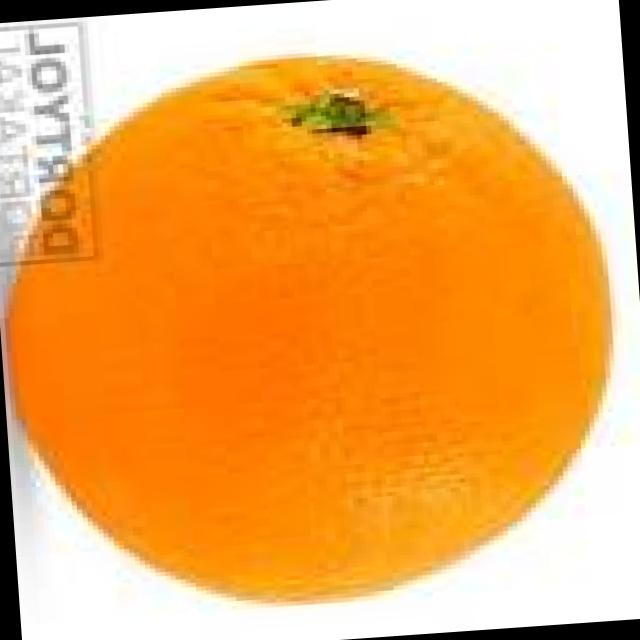orange: (13, 58, 608, 602)
